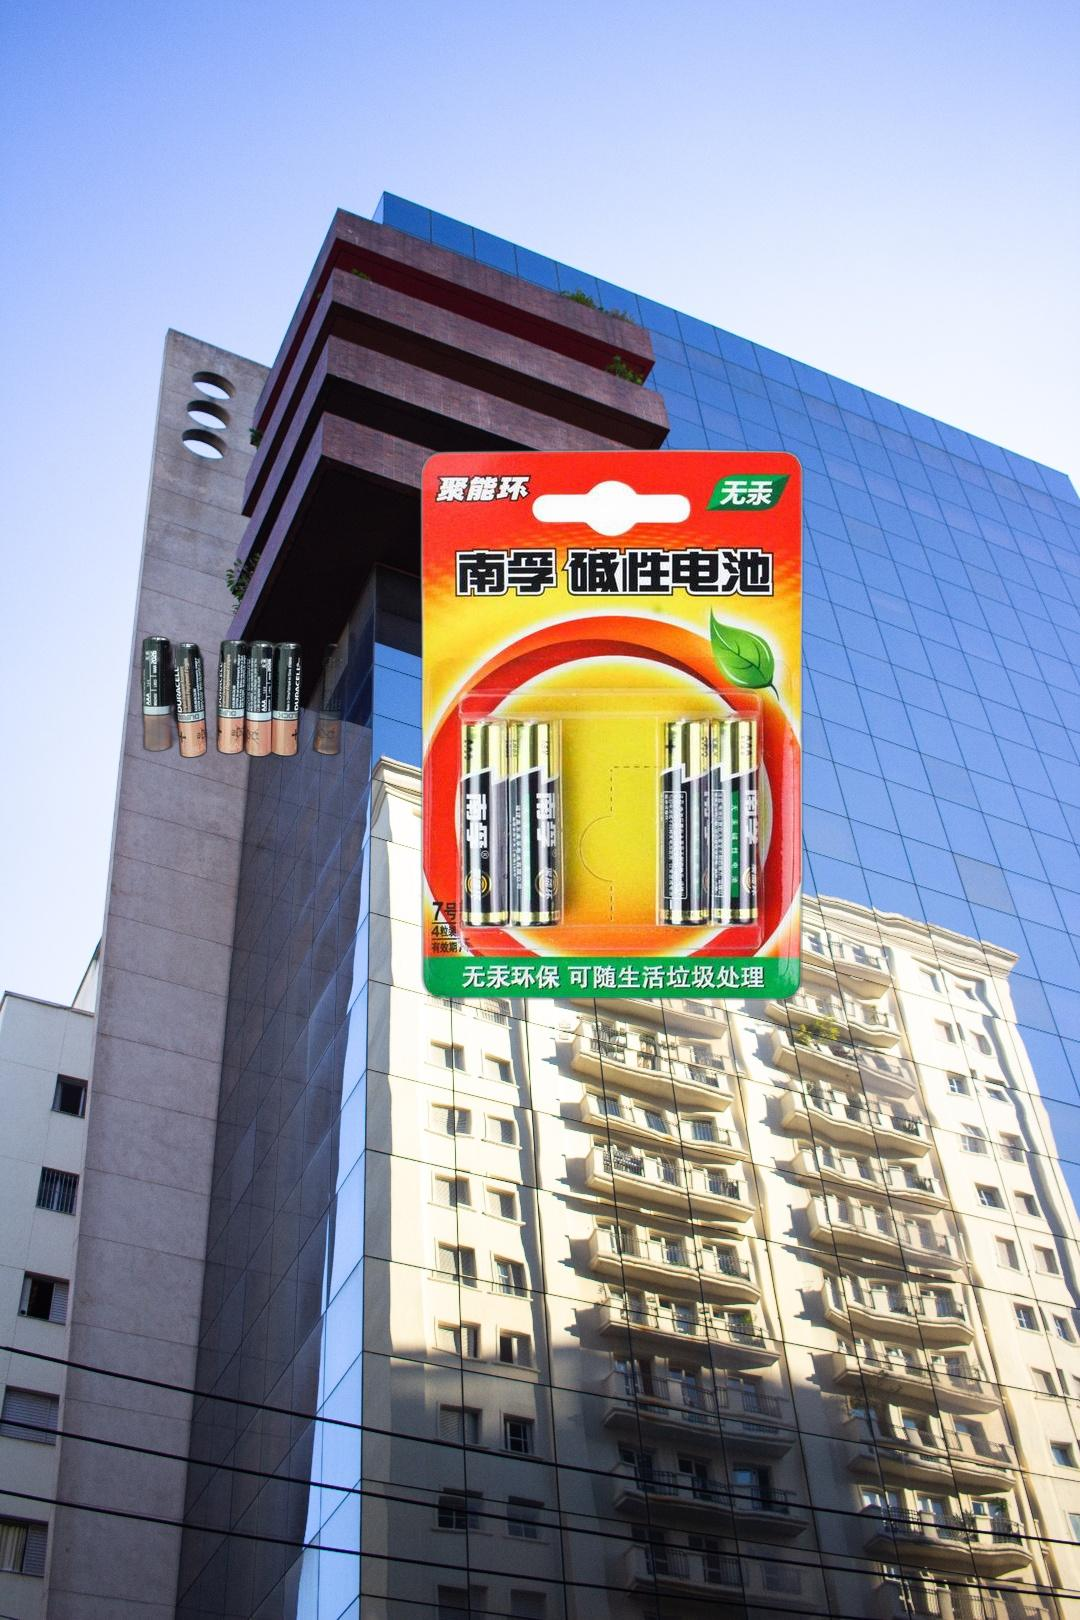battery: (416, 444, 808, 1006), (137, 633, 353, 765)
